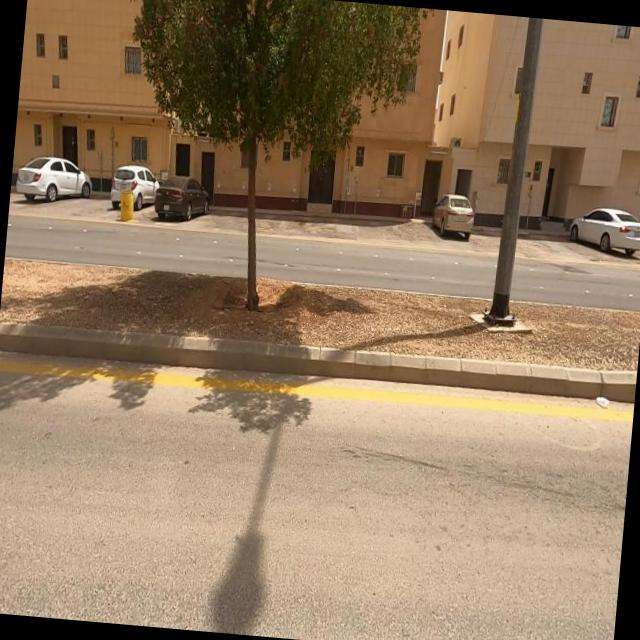debris: (561, 362, 637, 437)
